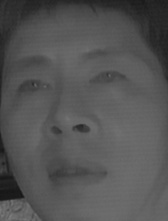eye: (89, 65, 129, 93), (16, 75, 56, 101)
mouth: (38, 151, 111, 194)
